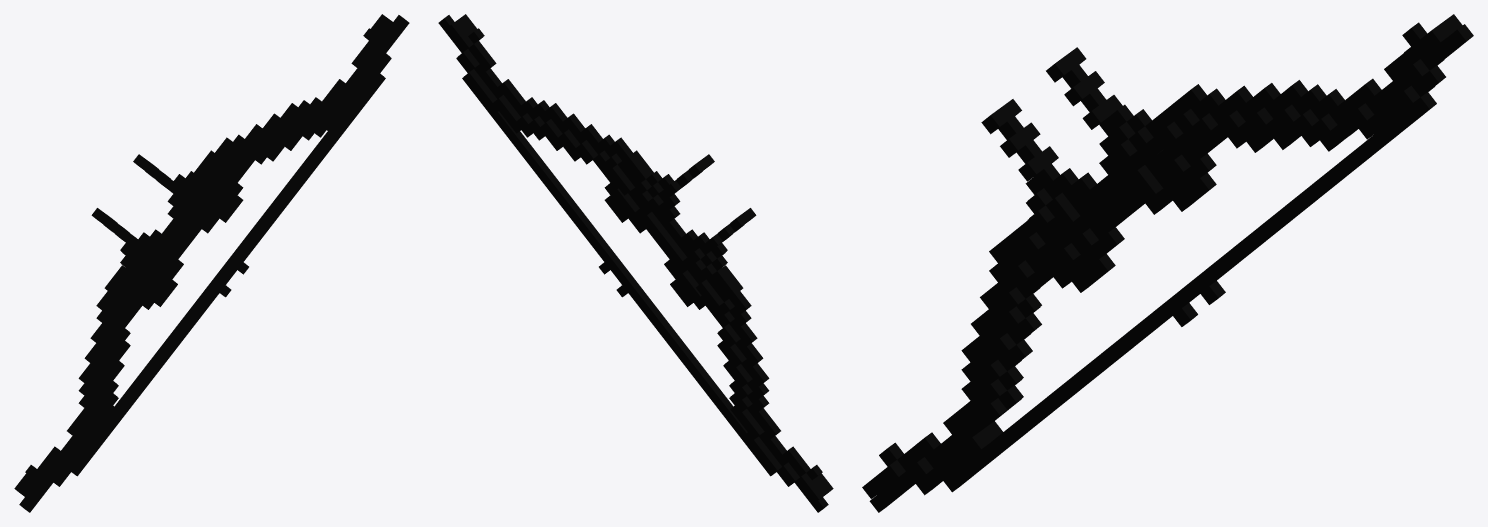
Rendered from chaotic_bow00.obj.
3 renders of one model, left to right at view 1: azimuth 30°, elevation 25°; view 2: azimuth 150°, elevation 25°; view 3: azimuth 330°, elevation 25°, orthographic. The views are drawn at different scales.
Visible parts, largest first — view 1: chaotic_bow00; view 2: chaotic_bow00; view 3: chaotic_bow00.
Boxes of the visible parts, x1=… form: chaotic_bow00: x1=14, y1=14, x2=409, y2=512; chaotic_bow00: x1=438, y1=14, x2=833, y2=512; chaotic_bow00: x1=862, y1=14, x2=1473, y2=512.
Size of the model in its own units: 1.72 by 1.72 by 0.1875.
